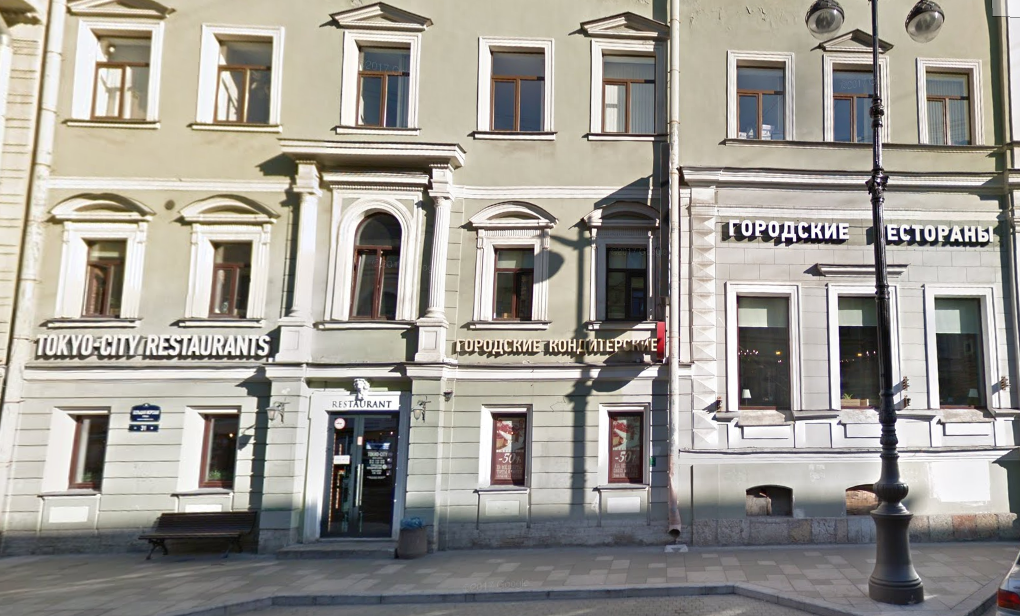cantilever: (652, 315, 669, 362)
door: (325, 409, 396, 540)
signboard: (724, 210, 996, 254), (20, 320, 274, 364), (453, 332, 659, 362)
window: (931, 297, 994, 411), (733, 290, 788, 414), (832, 292, 878, 410), (92, 27, 147, 119), (215, 37, 271, 123), (492, 43, 547, 130), (350, 216, 396, 319), (599, 55, 656, 129), (356, 46, 406, 126), (733, 63, 785, 139), (833, 63, 882, 143), (600, 408, 646, 488), (931, 71, 980, 146), (205, 242, 248, 326), (488, 244, 535, 319), (86, 239, 127, 323), (65, 413, 106, 494), (198, 410, 238, 492), (490, 411, 531, 488), (609, 246, 648, 325)
